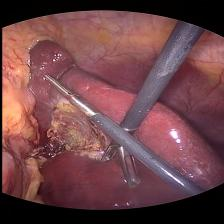Grasper: (32, 68, 107, 115), (88, 143, 146, 193)
